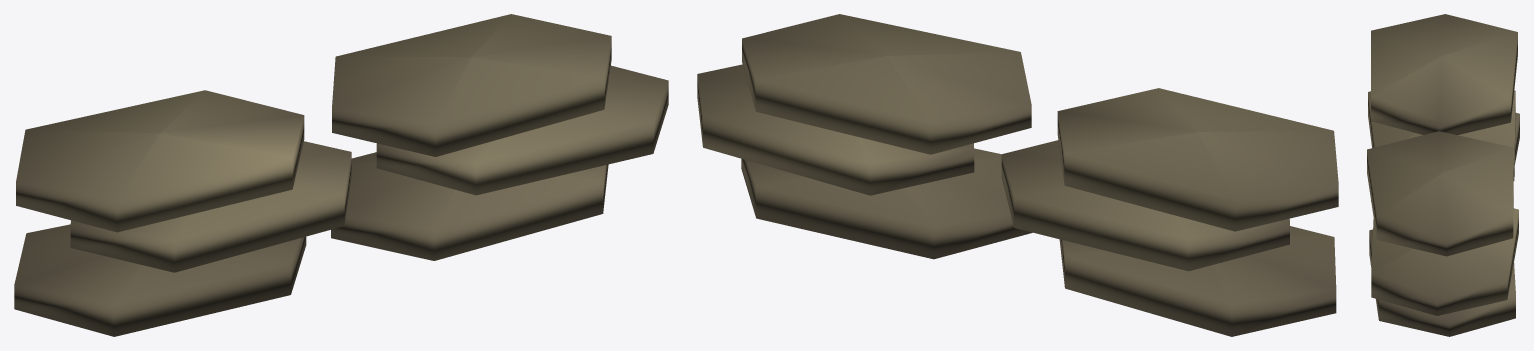
Rendered from m01_prop_sandbag_run_lod1.glb.
The picture shows the model from 3 angles, left to right: view 1: azimuth 30°, elevation 25°; view 2: azimuth 150°, elevation 25°; view 3: azimuth 270°, elevation 25°; orthographic projection. The views are drawn at different scales.
Parts seen in each view (by area): view 1: sandbag_run; view 2: sandbag_run; view 3: sandbag_run.
Boxes of the visible parts, x1,y1,x2,y2 form: sandbag_run: [14, 14, 668, 336]; sandbag_run: [697, 14, 1338, 336]; sandbag_run: [1367, 14, 1519, 336].
Size of the model in its own units: 1.87 by 0.44 by 0.4959.
